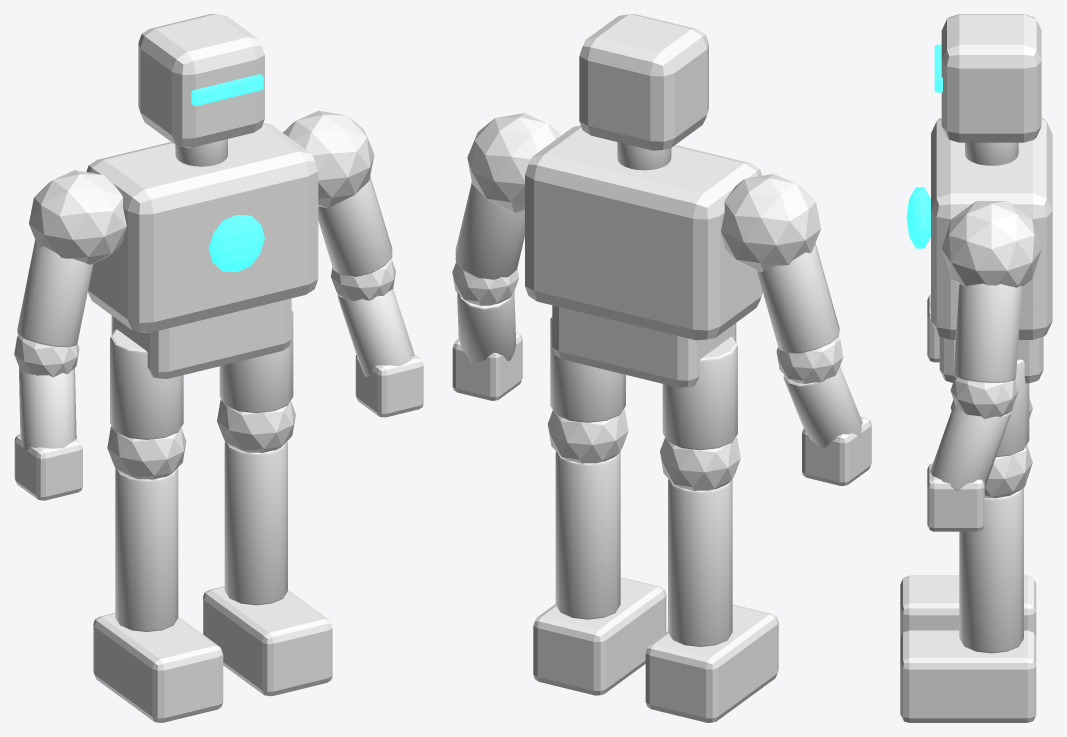
File: SM_SentinelTarget.glb
3 views of the same model, side by side, from view 1: azimuth 30°, elevation 25°; view 2: azimuth 150°, elevation 25°; view 3: azimuth 270°, elevation 25° (orthographic). The views are drawn at different scales.
Visible parts, largest first — view 1: SM_SentinelTarget; view 2: SM_SentinelTarget; view 3: SM_SentinelTarget.
Part boxes in pixels (x1,y1,x2,y2): SM_SentinelTarget: (14,14,423,722); SM_SentinelTarget: (452,14,871,722); SM_SentinelTarget: (900,14,1052,722).
Size of the model in its own units: 1.27 by 2.01 by 0.425.
